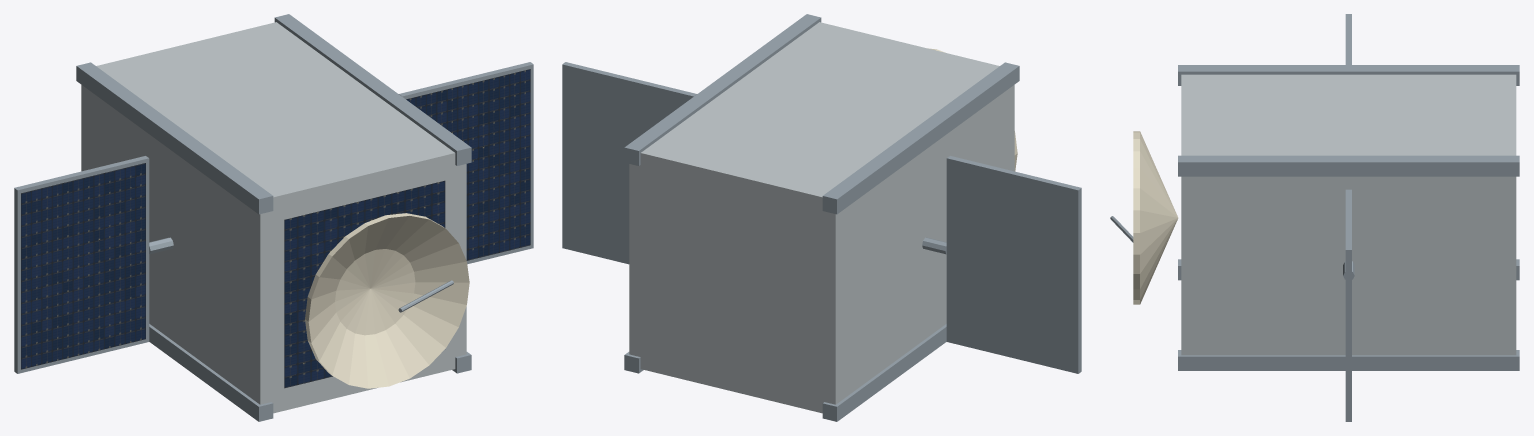
File: ref-cubesat-6u-43548.glb
The picture shows the model from 3 angles, left to right: view 1: azimuth 30°, elevation 25°; view 2: azimuth 150°, elevation 25°; view 3: azimuth 270°, elevation 25°; orthographic projection. The views are drawn at different scales.
Parts seen in each view (by area): view 1: Spacecraft body, Photovoltaic laminates (×2), Reflector dish, Dispenser rail (×3), Body-mounted cells, Array frame (×2); view 2: Spacecraft body, Array frame (×2), Dispenser rail (×3); view 3: Spacecraft body, Dispenser rail (×3), Reflector dish, Array frame.
Part boxes in pixels (left/top/right/bottom): Spacecraft body: left=81, top=22, right=466, bottom=413; Photovoltaic laminates (×2): left=21, top=69, right=530, bottom=369; Reflector dish: left=305, top=213, right=469, bottom=388; Dispenser rail (×3): left=76, top=14, right=471, bottom=421; Body-mounted cells: left=284, top=180, right=445, bottom=388; Array frame (×2): left=14, top=62, right=533, bottom=373; Spacecraft body: left=629, top=22, right=1014, bottom=413; Array frame (×2): left=562, top=62, right=1081, bottom=373; Dispenser rail (×3): left=624, top=14, right=1019, bottom=421; Spacecraft body: left=1181, top=74, right=1516, bottom=355; Dispenser rail (×3): left=1178, top=65, right=1519, bottom=370; Reflector dish: left=1133, top=131, right=1178, bottom=304; Array frame: left=1345, top=189, right=1351, bottom=421.
Bounding box in the file's own units: 0.5 × 0.206 × 0.3667.
4 materials, 1 textured.
